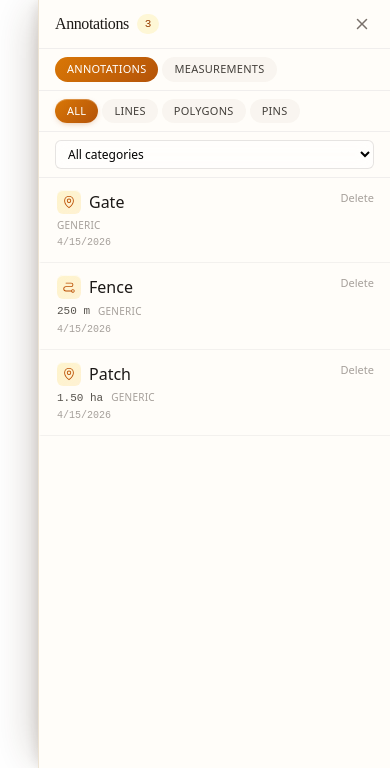
Test: AnnotationsSidebar › filter chip "Pins" hides line and polygon rows
Click the button "Pins".
click(275, 111)  # box [250,98,300,123]
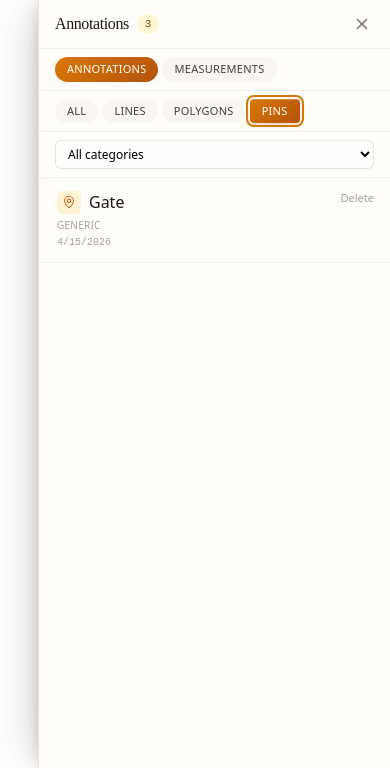
Expected: the text "Gate" is shown, [89,190,124,214]
Expected: the text "Fence" is gone
Expected: the text "Patch" is gone
